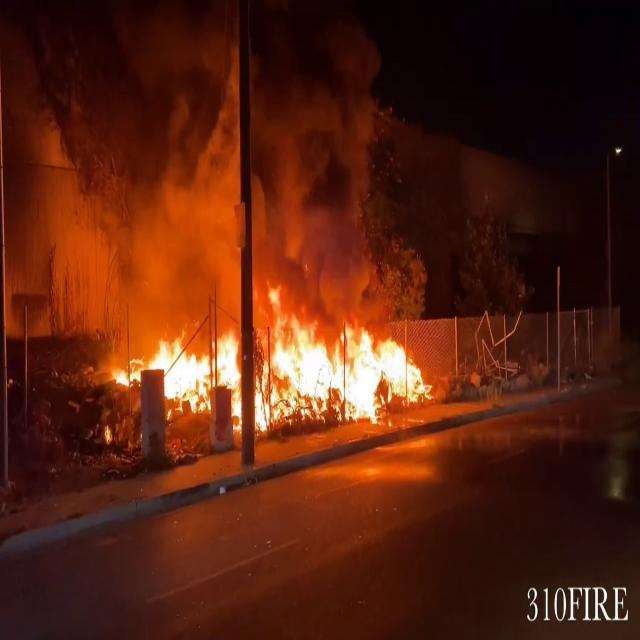Fire: (121, 286, 433, 428)
Smoke: (4, 5, 382, 311)
